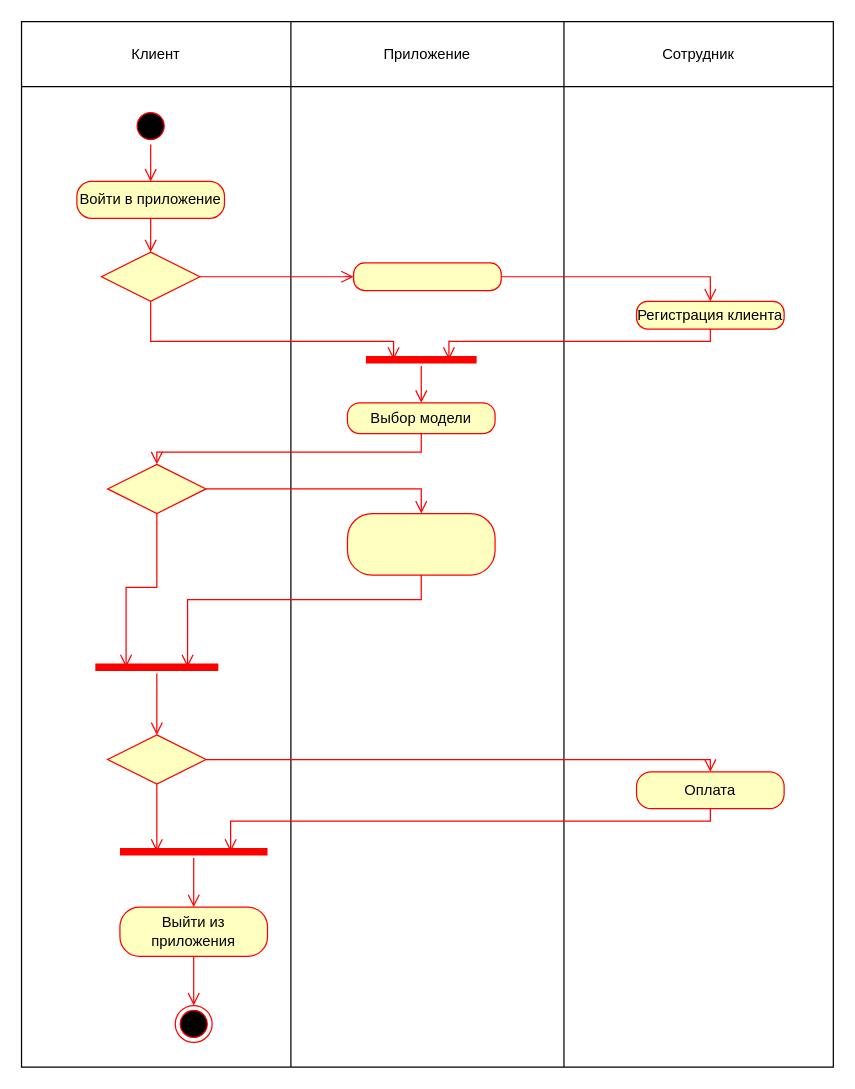
This 855x1089 diagram has some shape labels left out. Here are the shapes that lost their labels. From the top down, the centre of each, then its label:
point (426, 276): Регистрация
point (420, 543): Внесение корректировок в комплекцию
